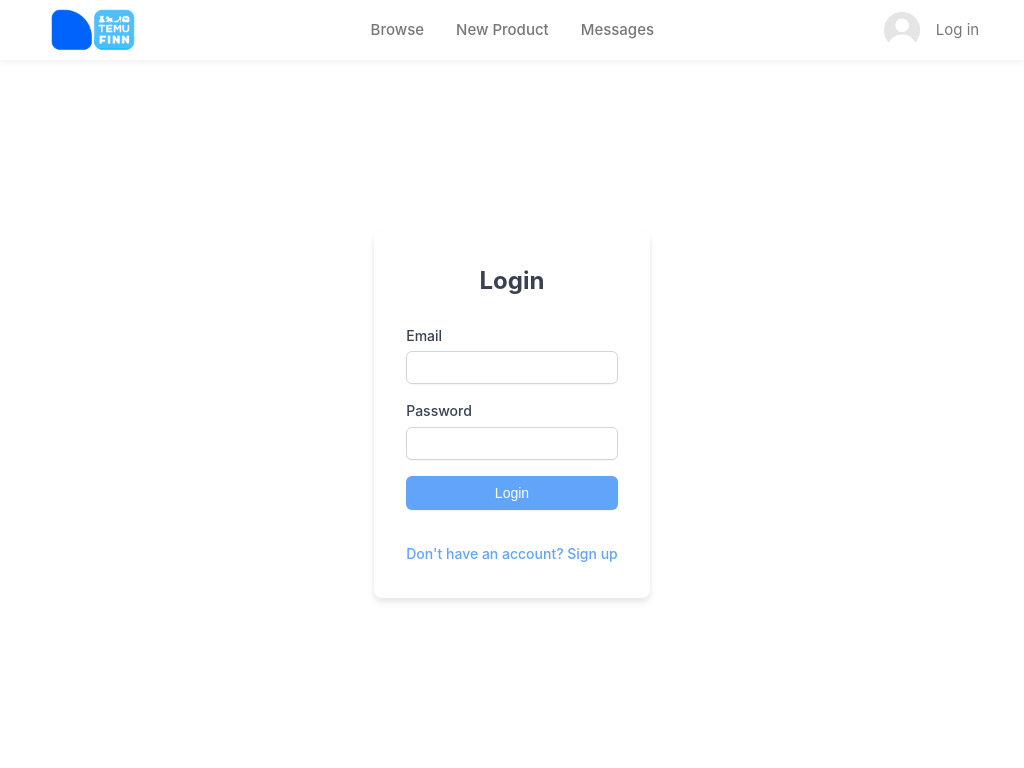
Scenario: Login Flow › should show error message for incorrect credentials
In the field with test id "email-input": [512, 368] box [406,351,618,384], type "test@example.com"
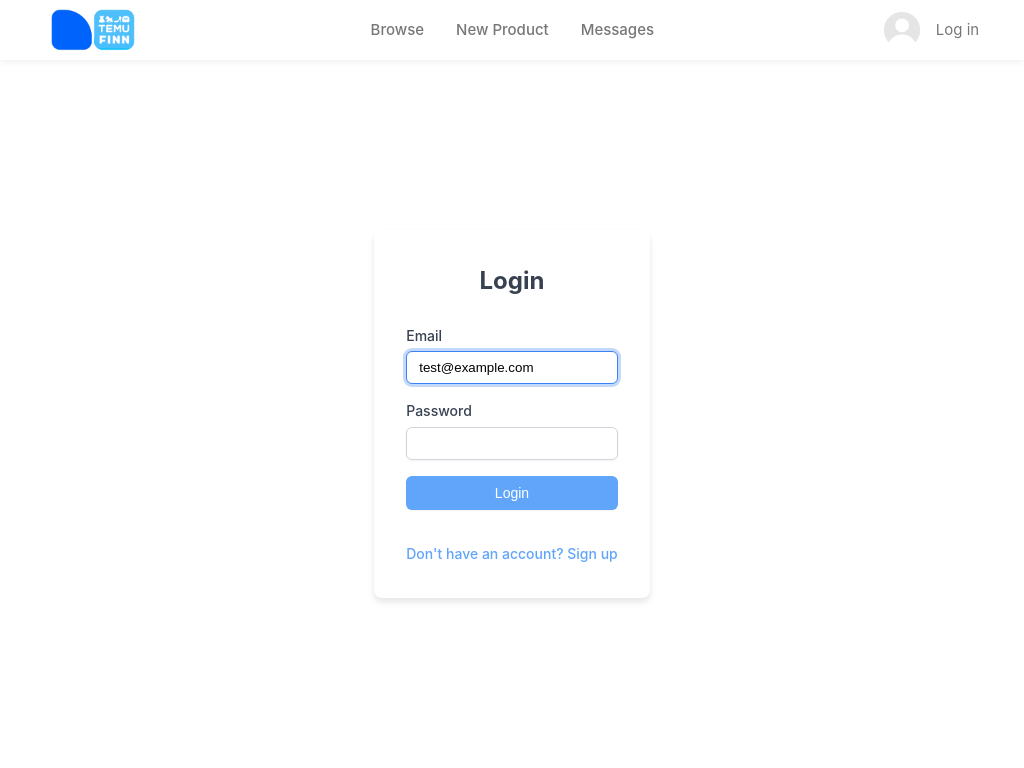
In the password field with test id "password-input": [512, 444] box [406,427,618,460], type "wrongpassword"
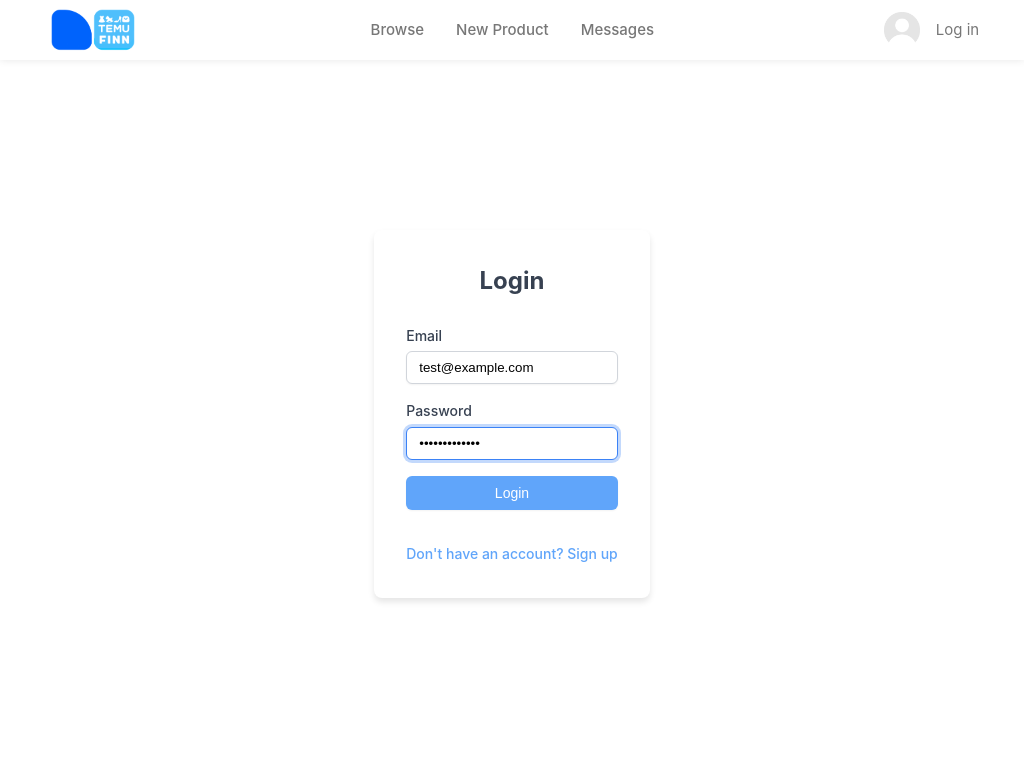
Click the button with test id "login-button": [512, 493] box [406,476,618,510]
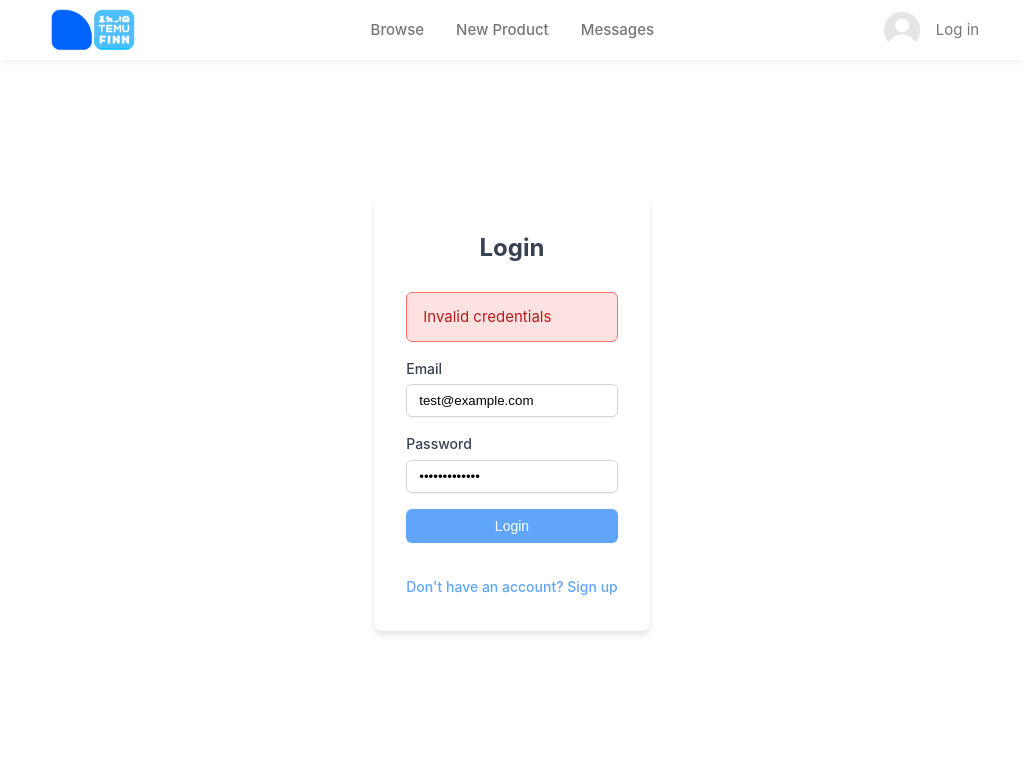
Result: the text "Invalid credentials" is shown at [406,292,618,342]
